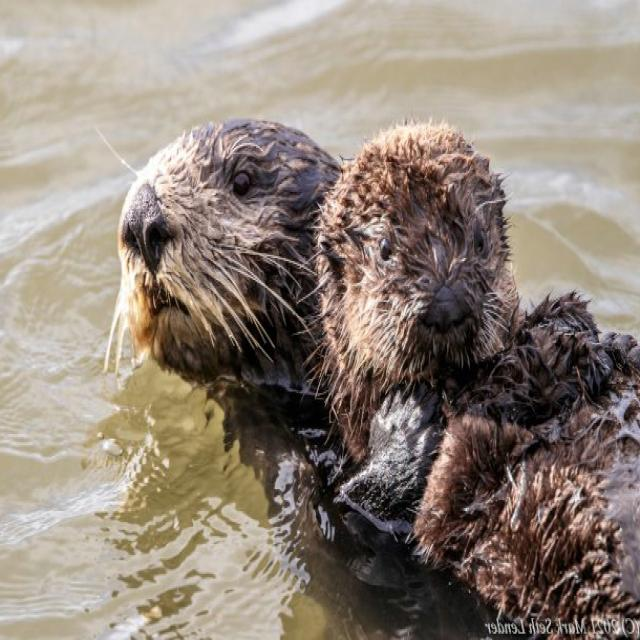otter: (318, 123, 640, 620), (120, 120, 441, 535)
